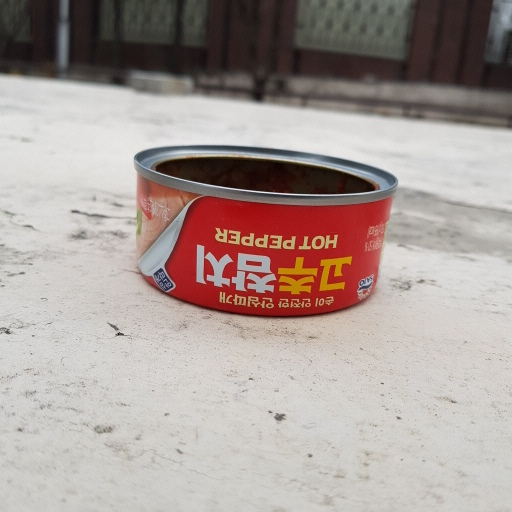Metal_1: (128, 144, 401, 321)
